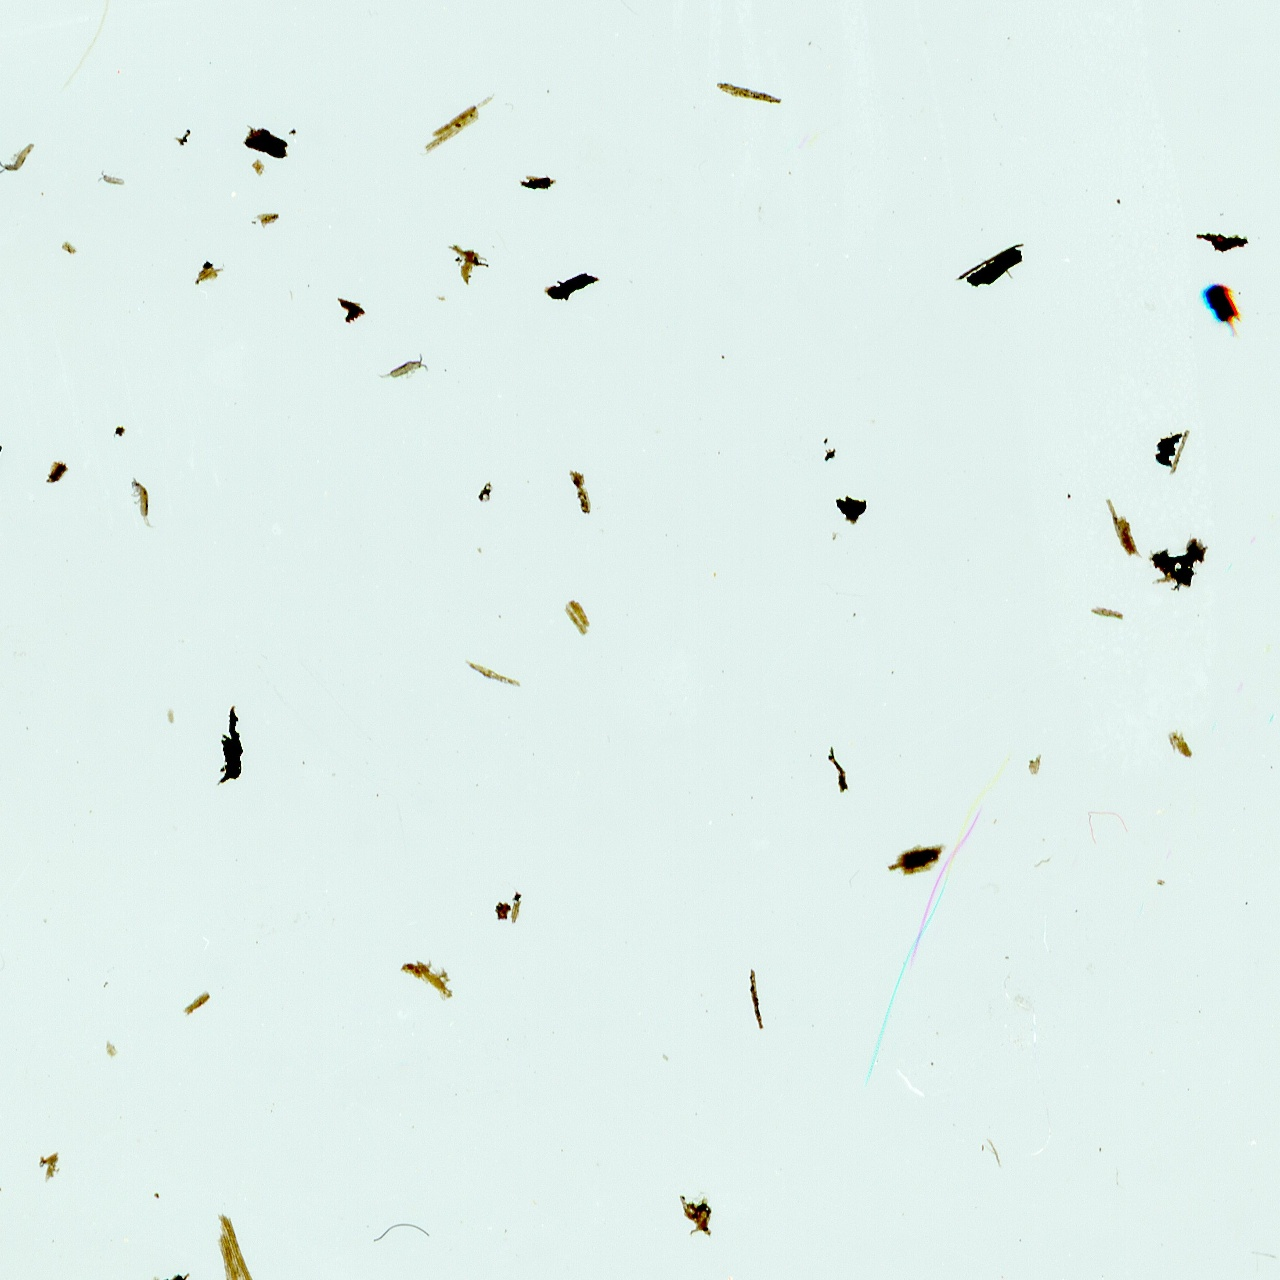arthropod: (369, 344, 433, 390), (130, 473, 160, 533), (0, 138, 40, 178), (90, 161, 133, 198)
